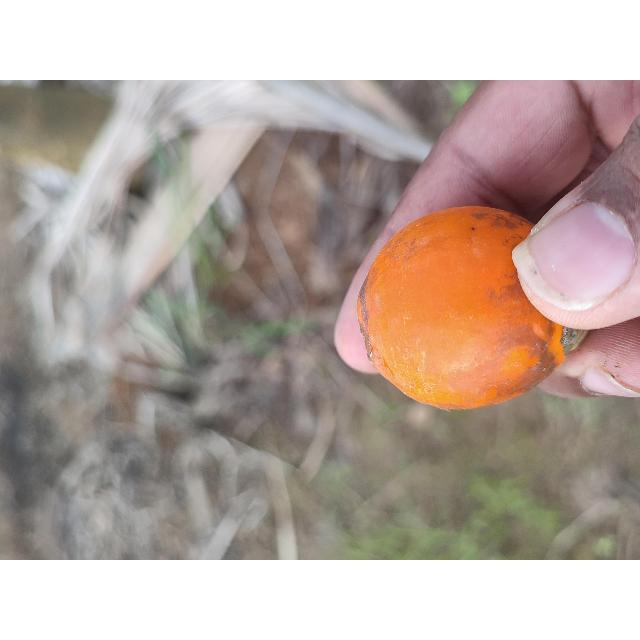good: (355, 206, 589, 412)
